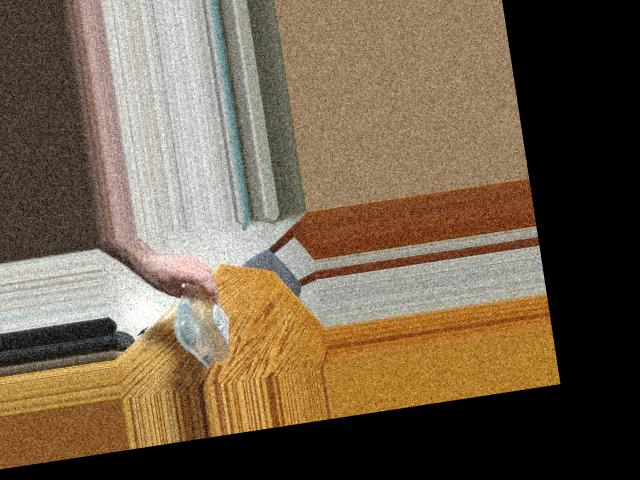cheese: (169, 261, 237, 370)
